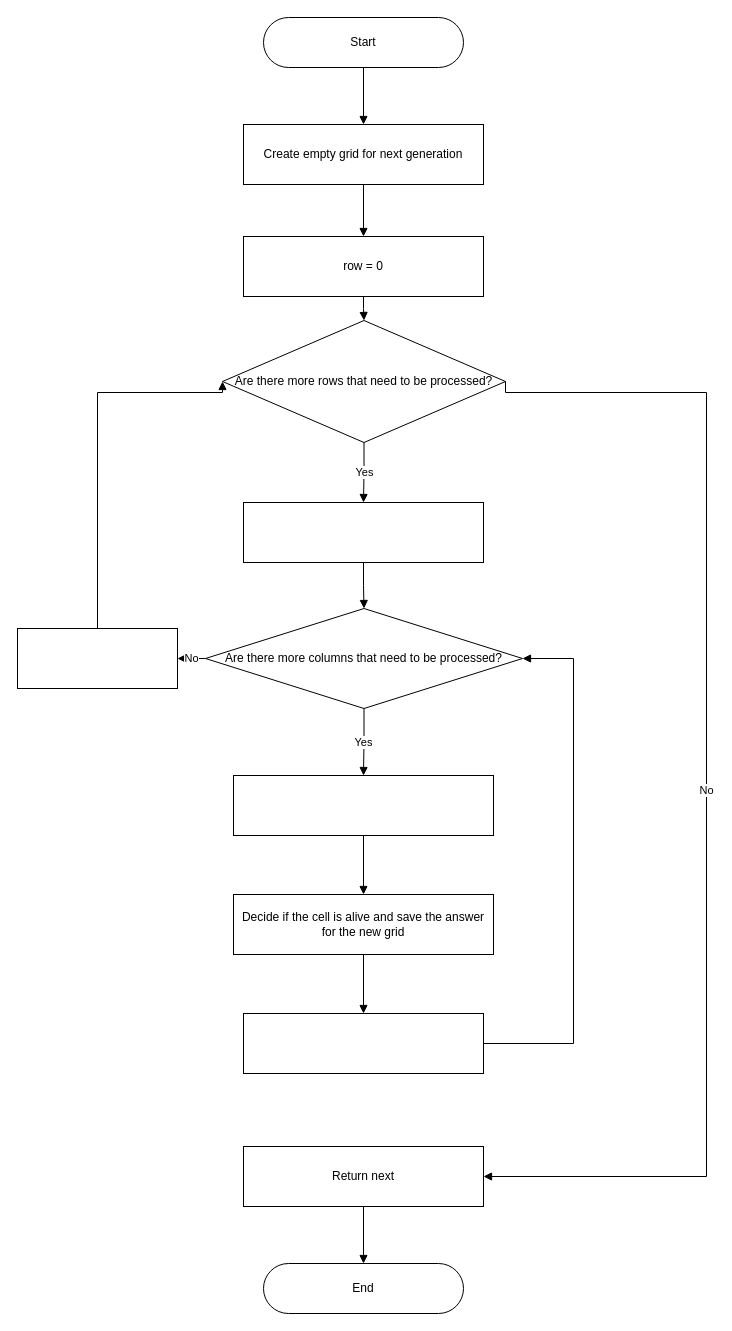
Image size: 732x1331. Some labels were removed from this diagram. Each missing label, with the box of its shape:
col = 0: (242, 502, 484, 562)
Count how many neighbors are alive and save it to neighbors: (232, 774, 494, 836)
Move loop on to next row: (16, 628, 178, 688)
Move onto the next column: (242, 1012, 484, 1074)
